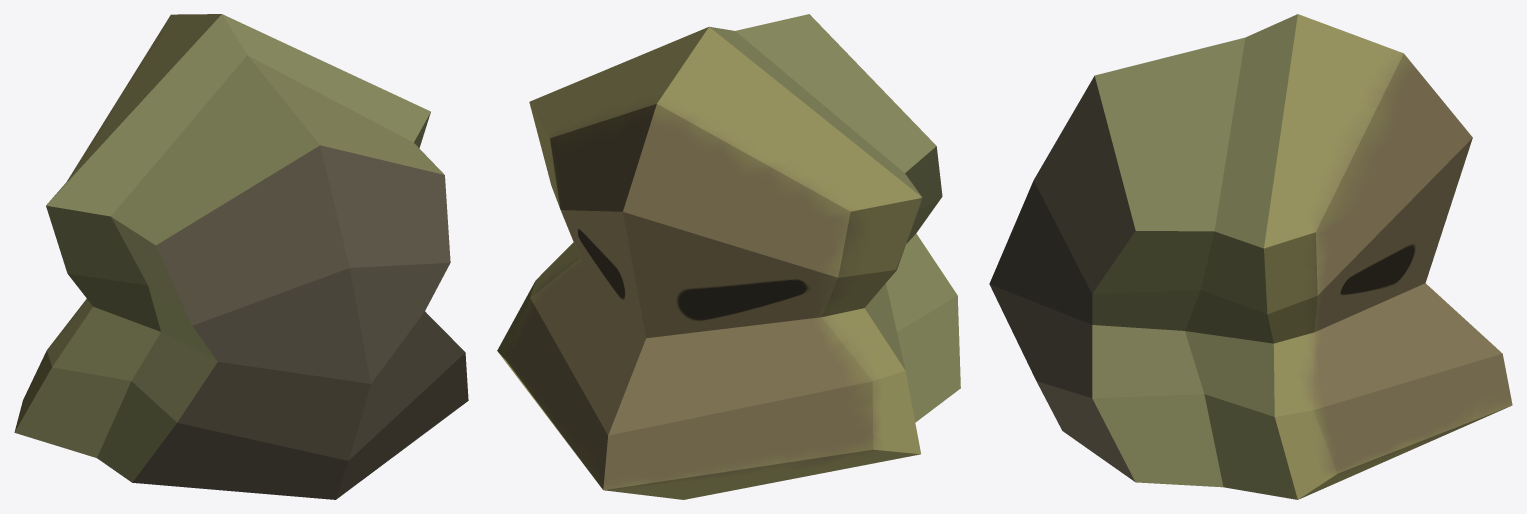
The model's file is Golem1Head.glb.
3 renders of one model, left to right at view 1: azimuth 30°, elevation 25°; view 2: azimuth 150°, elevation 25°; view 3: azimuth 270°, elevation 25°, orthographic. The views are drawn at different scales.
Visible parts, largest first — view 1: Golem1Head; view 2: Golem1Head; view 3: Golem1Head.
Boxes of the visible parts, box(x1,y1,x2,y2) form: Golem1Head: box(14, 14, 468, 499); Golem1Head: box(497, 14, 960, 499); Golem1Head: box(989, 14, 1512, 499).
Bounding box in the file's own units: 1.68 × 1.72 × 1.77.
1 material, 1 textured.
